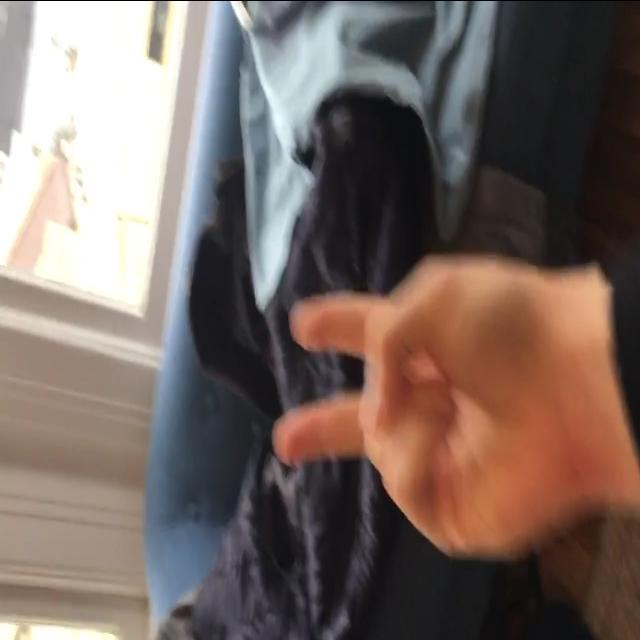Scissors: (272, 248, 568, 574)
